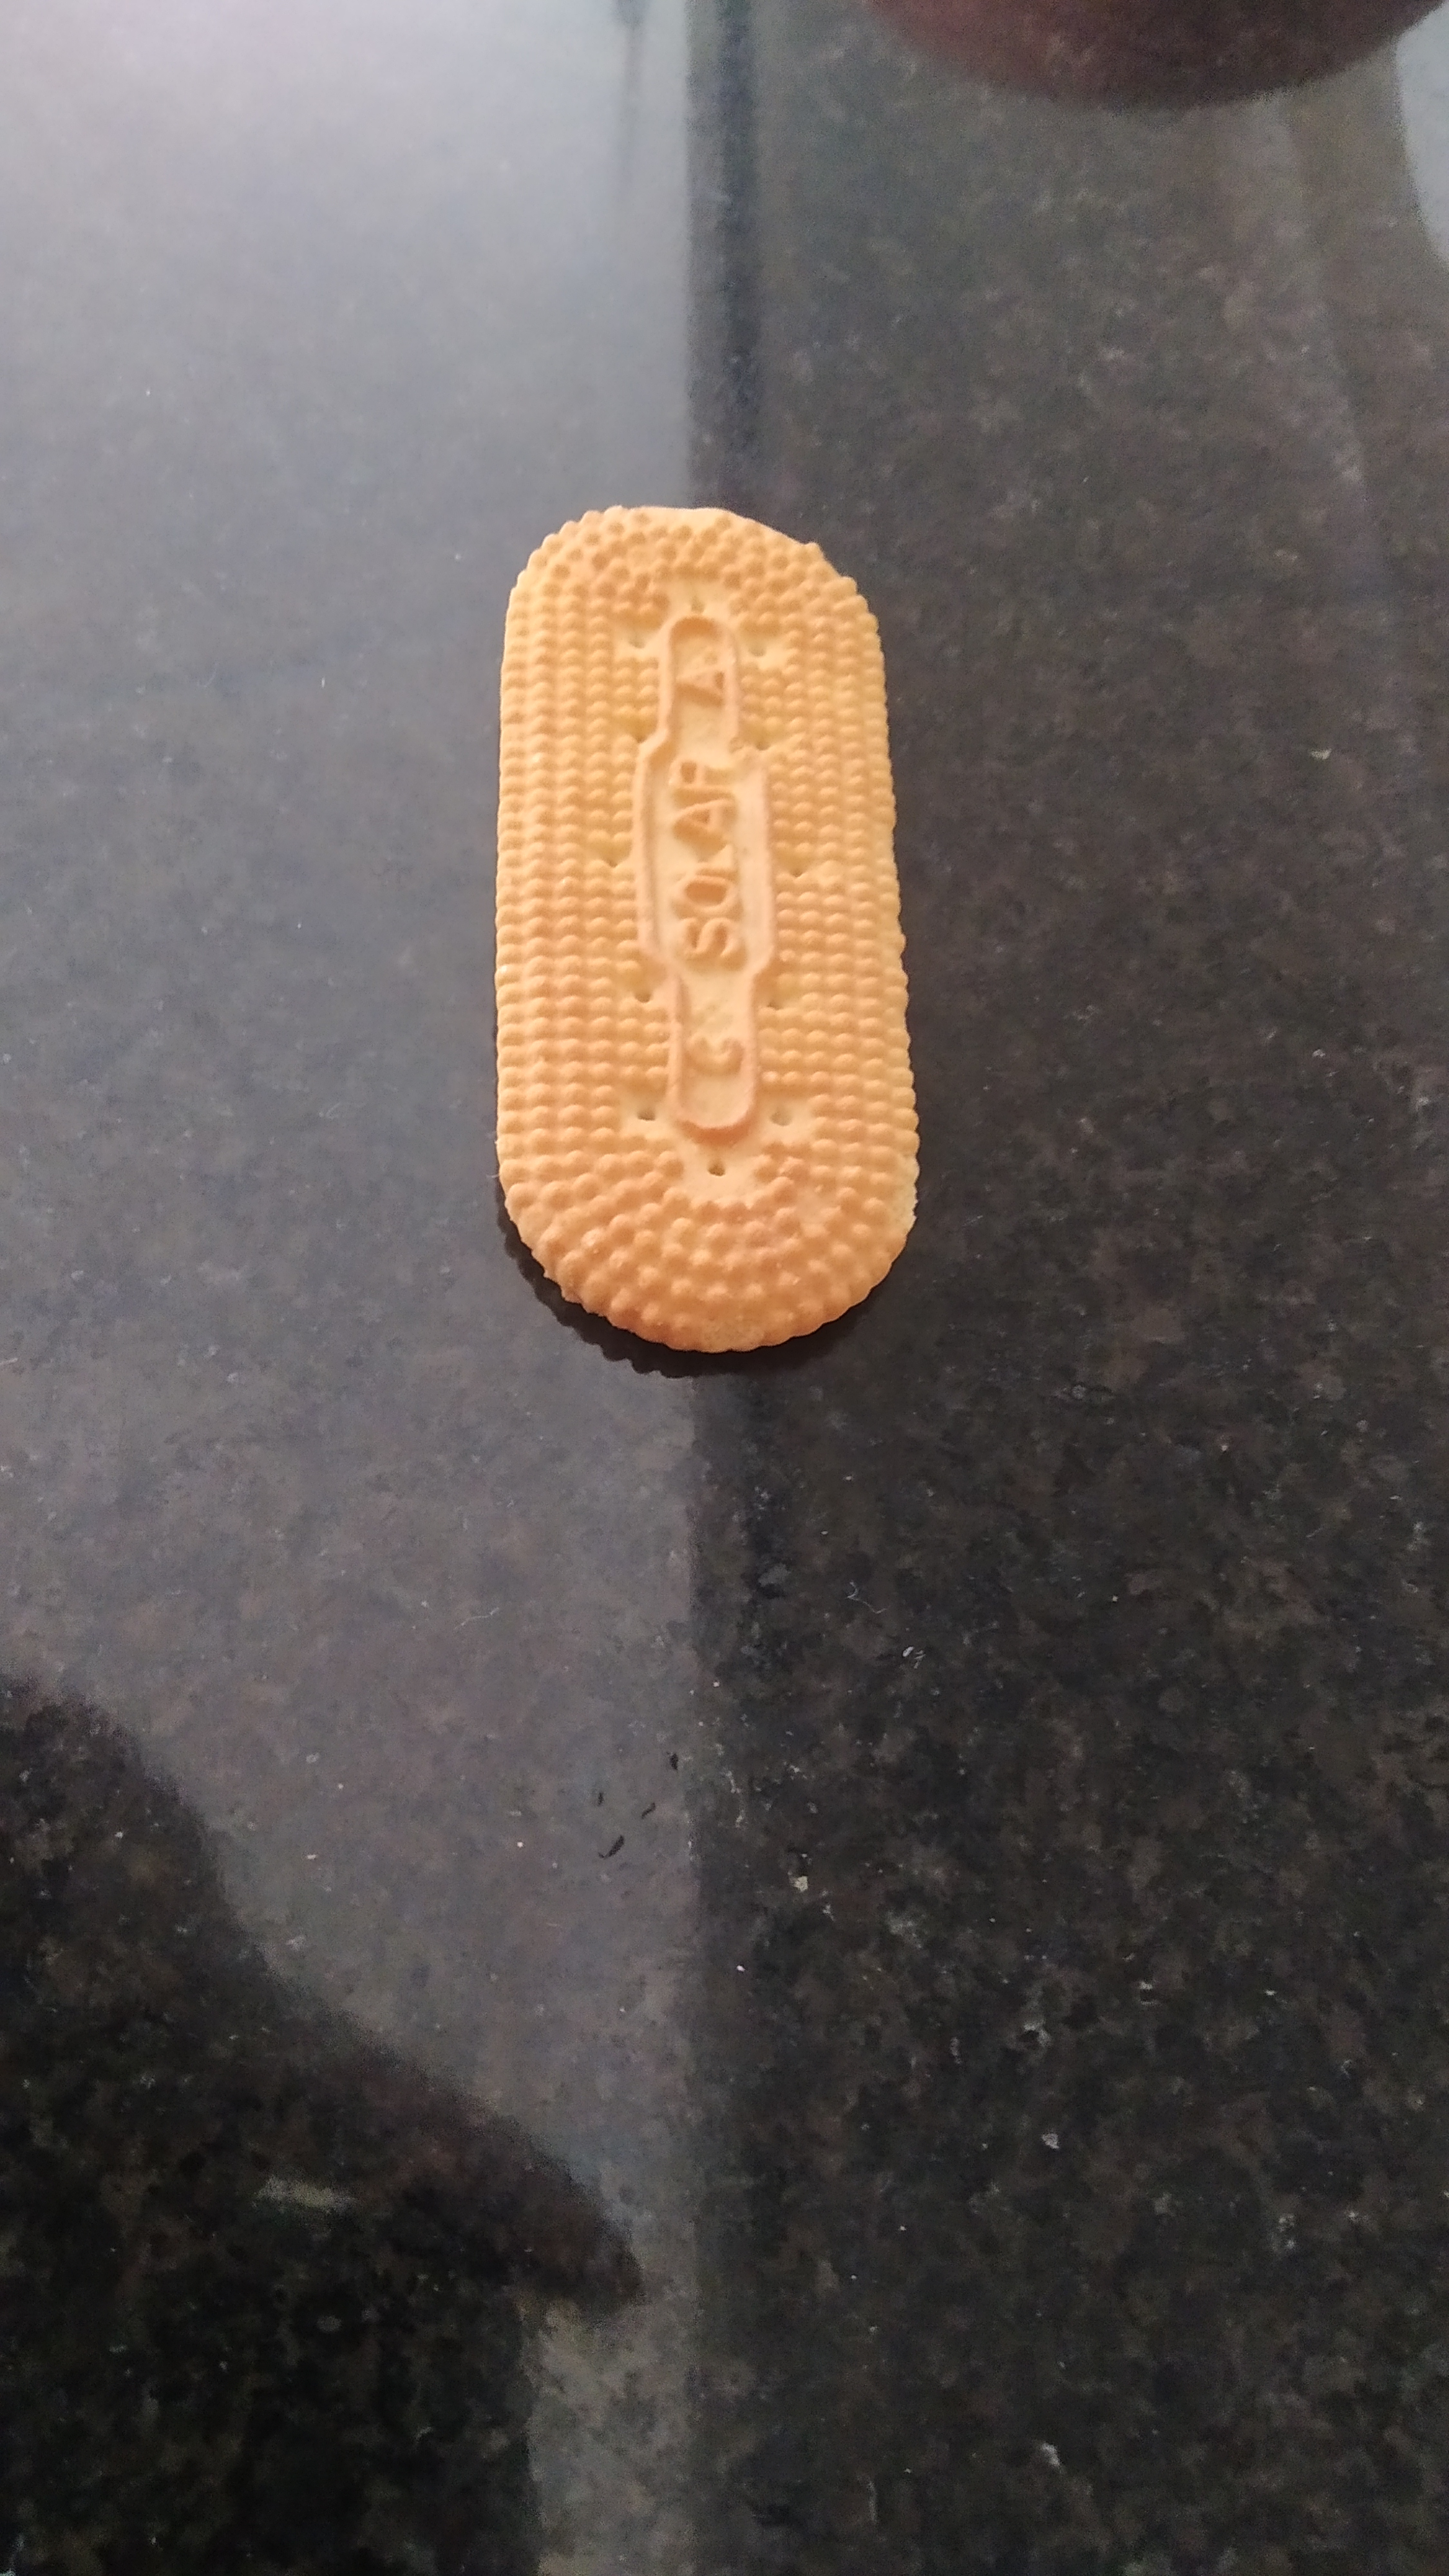solar: (492, 504, 918, 1355)
